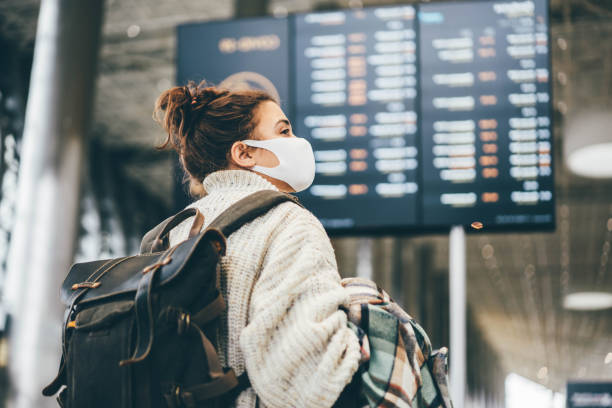with mask: (164, 88, 323, 195)
